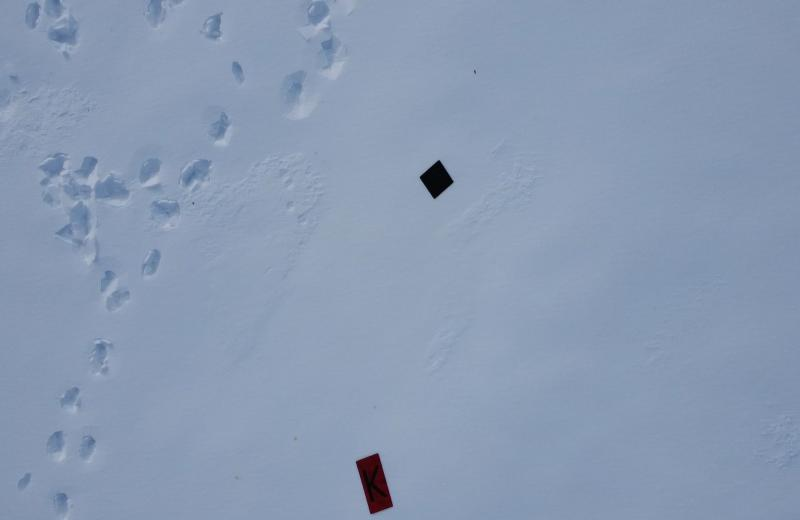Rectangle: (355, 453, 395, 516)
Square: (420, 158, 455, 198)
